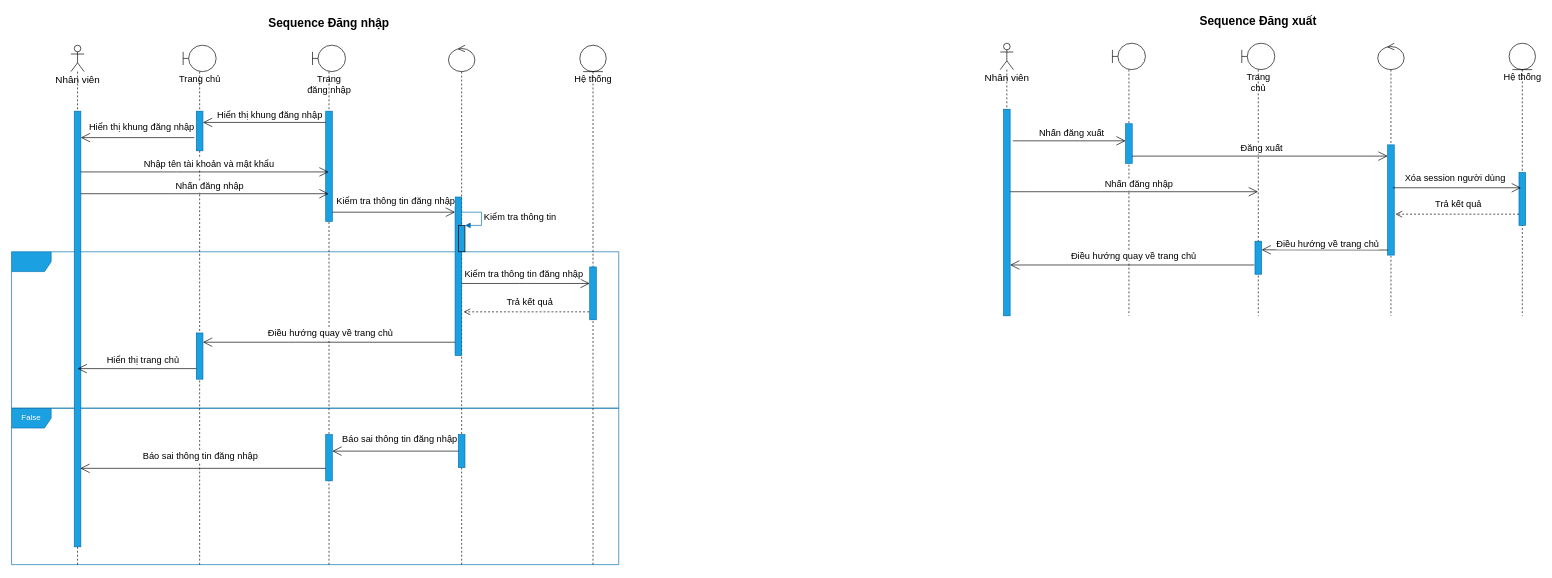
Image size: 1552x578. Some labels were removed from this diagram. The shapes that lost their labels are listed below. From the top down, each one's box as (x1, y1, x2, y2) in pixels, then its label:
(1112, 43, 1145, 316): Trang bất kỳ
(1377, 43, 1404, 316): Đăng xuất controller
(448, 45, 475, 567): Đăng nhập controller
(11, 251, 619, 408): True
